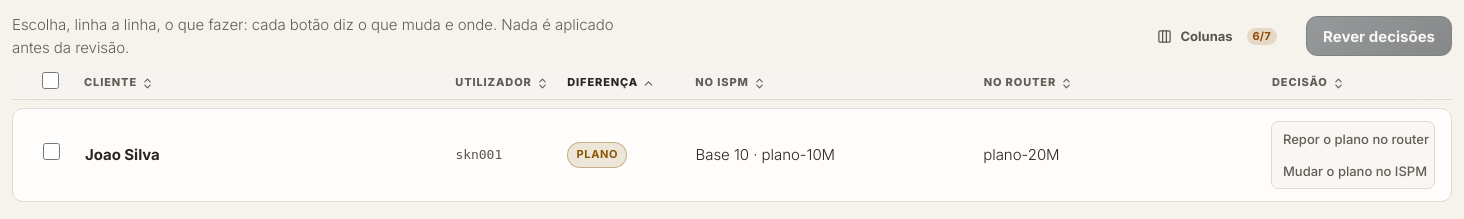
Scenario: clicar no lado já escolhido retira a decisão
The image size is (1464, 219).
What coordinates should you click on to do the following:
click the button "Mudar o plano no ISPM"
I would click on:
 (1353, 171)
Its box is left=1274, top=156, right=1432, bottom=186.
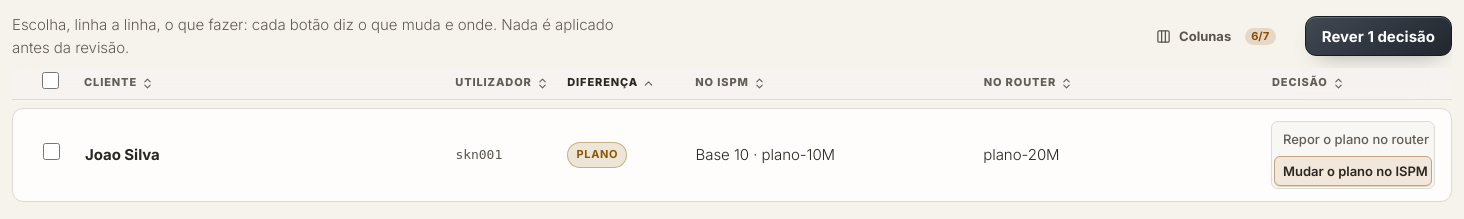
Expected: the button "Rever 1 decisão" is shown, left=1305, top=16, right=1452, bottom=56
What coordinates should you click on to do the following:
click the button "Mudar o plano no ISPM"
I would click on:
 (1353, 171)
Its box is left=1274, top=156, right=1432, bottom=186.
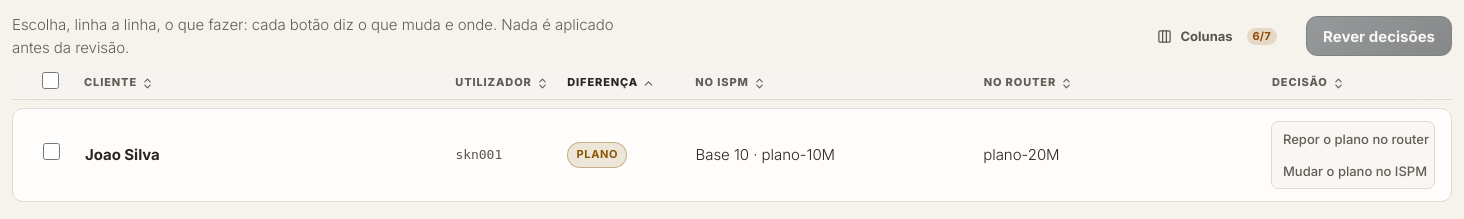
Expected: the button "Rever decisões" is disabled, left=1306, top=16, right=1452, bottom=56
